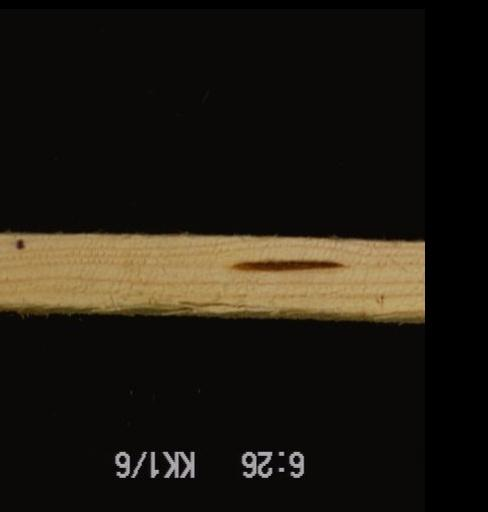split: (174, 297, 268, 310)
